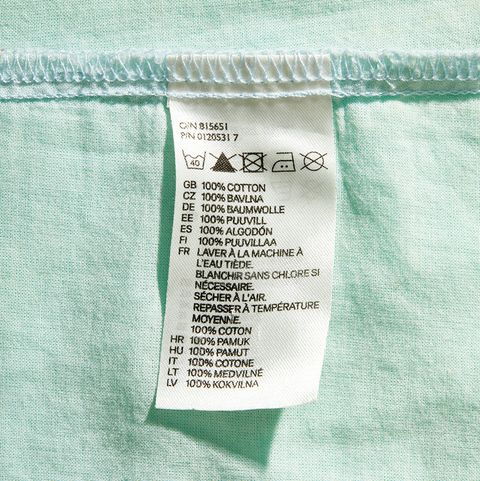ER_iron_medium_temp: (269, 149, 298, 176)
ER_no_bleach: (209, 149, 238, 176)
ER_no_dry_clean: (302, 150, 326, 173)
ER_no_tumble_dry: (237, 151, 267, 176)
ER_wash_40: (180, 147, 207, 172)
